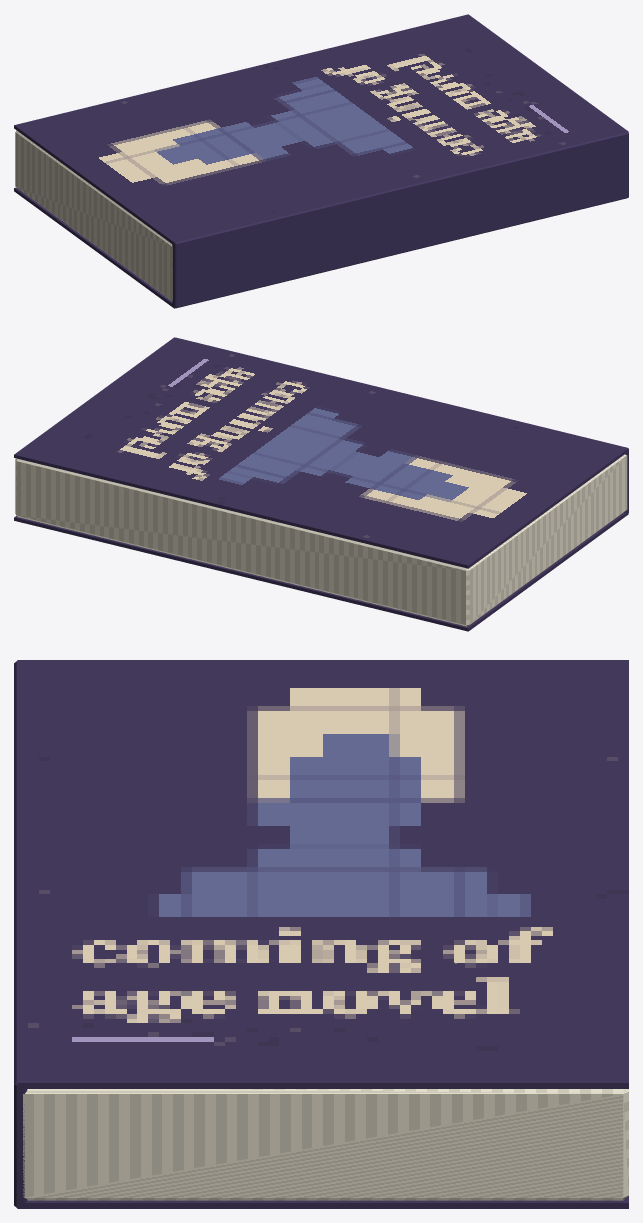
Rendered from novel_coa.glb.
The picture shows the model from 3 angles, top to bottom: view 1: azimuth 30°, elevation 25°; view 2: azimuth 150°, elevation 25°; view 3: azimuth 270°, elevation 25°; orthographic projection. The views are drawn at different scales.
Visible parts, largest first — view 1: block_front, block_spine, block_pages, block_back; view 2: block_front, block_pages, block_back, block_spine; view 3: block_front, block_pages, block_spine, block_back.
Boxes of the visible parts, left/top/right/bottom form: block_front: left=14, top=14, right=628, bottom=245; block_spine: left=172, top=130, right=628, bottom=308; block_pages: left=15, top=130, right=172, bottom=301; block_back: left=14, top=187, right=628, bottom=308; block_front: left=14, top=337, right=628, bottom=568; block_pages: left=15, top=454, right=627, bottom=626; block_back: left=14, top=512, right=628, bottom=631; block_spine: left=176, top=337, right=628, bottom=513; block_front: left=17, top=660, right=628, bottom=1088; block_pages: left=23, top=1089, right=628, bottom=1200; block_spine: left=14, top=661, right=27, bottom=1207; block_back: left=17, top=1196, right=628, bottom=1208.
Bounding box in the file's own units: 0.18 × 0.025 × 0.1106.
Materials: 1 (1 with a texture image).
